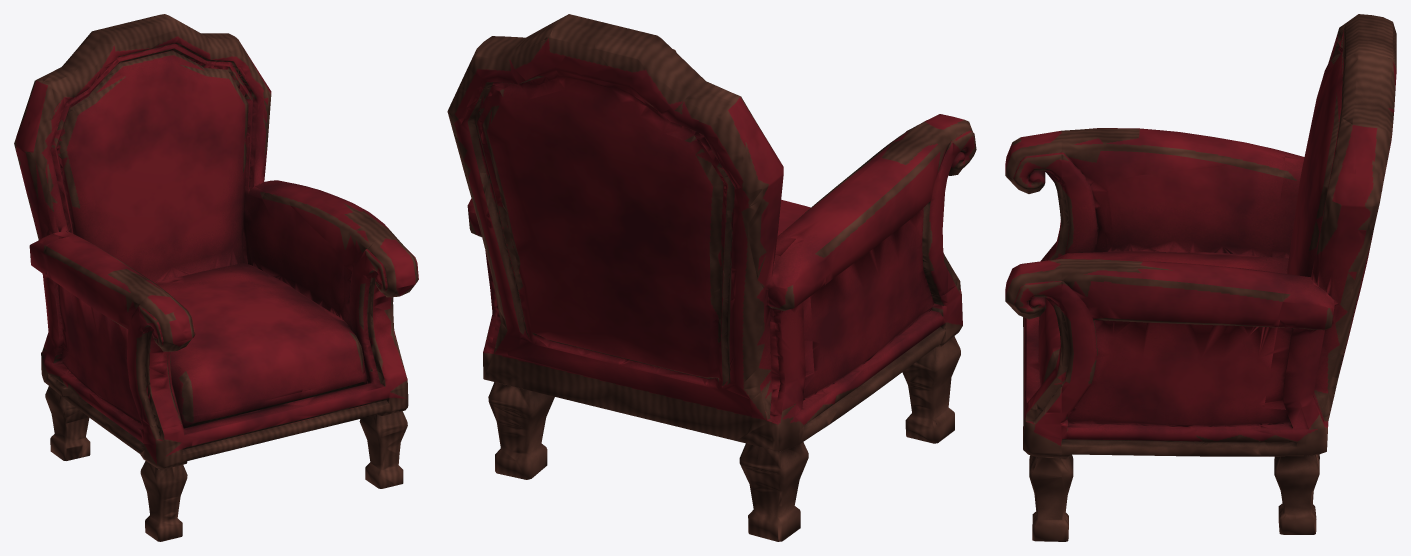
Rendered from Armchair_Parts.glb.
3 views of the same model, side by side, from view 1: azimuth 30°, elevation 25°; view 2: azimuth 150°, elevation 25°; view 3: azimuth 270°, elevation 25° (orthographic). The views are drawn at different scales.
Visible parts, largest first — view 1: Armchair_BackPanel, Armchair_Seat, Armchair_Base, Armchair_BackFrame, Armchair_Arm_L, Armchair_Arm_R, Armchair_ArmFront_R, Armchair_ArmFront_L, Armchair_Leg_FL, Armchair_Leg_FR, Armchair_Leg_BL; view 2: Armchair_BackRear, Armchair_BackFrame, Armchair_Arm_L, Armchair_Base, Armchair_Leg_BL, Armchair_Leg_BR, Armchair_Leg_FL, Armchair_BackPanel, Armchair_ArmFront_L; view 3: Armchair_Arm_R, Armchair_BackFrame, Armchair_Seat, Armchair_Base, Armchair_Arm_L, Armchair_BackPanel, Armchair_ArmFront_R, Armchair_ArmFront_L, Armchair_Leg_FR, Armchair_Leg_BR, Armchair_BackRear.
Part boxes in pixels (x1,y1,x2,y2): Armchair_BackPanel: [35, 46, 280, 285]; Armchair_Seat: [81, 192, 365, 416]; Armchair_Base: [41, 347, 408, 469]; Armchair_BackFrame: [14, 14, 291, 359]; Armchair_Arm_L: [44, 236, 175, 420]; Armchair_Arm_R: [266, 183, 396, 358]; Armchair_ArmFront_R: [364, 236, 418, 374]; Armchair_ArmFront_L: [138, 292, 195, 429]; Armchair_Leg_FL: [140, 461, 187, 541]; Armchair_Leg_FR: [359, 411, 407, 488]; Armchair_Leg_BL: [45, 386, 90, 460]; Armchair_BackRear: [460, 66, 780, 419]; Armchair_BackFrame: [447, 14, 825, 414]; Armchair_Arm_L: [777, 124, 952, 372]; Armchair_Base: [483, 278, 962, 451]; Armchair_Leg_BL: [739, 442, 808, 541]; Armchair_Leg_BR: [488, 382, 554, 479]; Armchair_Leg_FL: [902, 336, 960, 443]; Armchair_BackPanel: [480, 173, 795, 415]; Armchair_ArmFront_L: [907, 114, 976, 291]; Armchair_Arm_R: [1061, 259, 1284, 412]; Armchair_BackFrame: [1264, 14, 1396, 428]; Armchair_Seat: [1038, 164, 1284, 384]; Armchair_Base: [1023, 316, 1330, 457]; Armchair_Arm_L: [1061, 128, 1284, 255]; Armchair_BackPanel: [1271, 46, 1352, 417]; Armchair_ArmFront_R: [1005, 258, 1061, 412]; Armchair_ArmFront_L: [1005, 130, 1061, 261]; Armchair_Leg_FR: [1029, 454, 1073, 541]; Armchair_Leg_BR: [1269, 453, 1321, 534]; Armchair_BackRear: [1312, 190, 1382, 416].
Bounding box in the file's own units: 0.8208 × 1.1 × 0.8852.
Materials: 1 (1 with a texture image).
